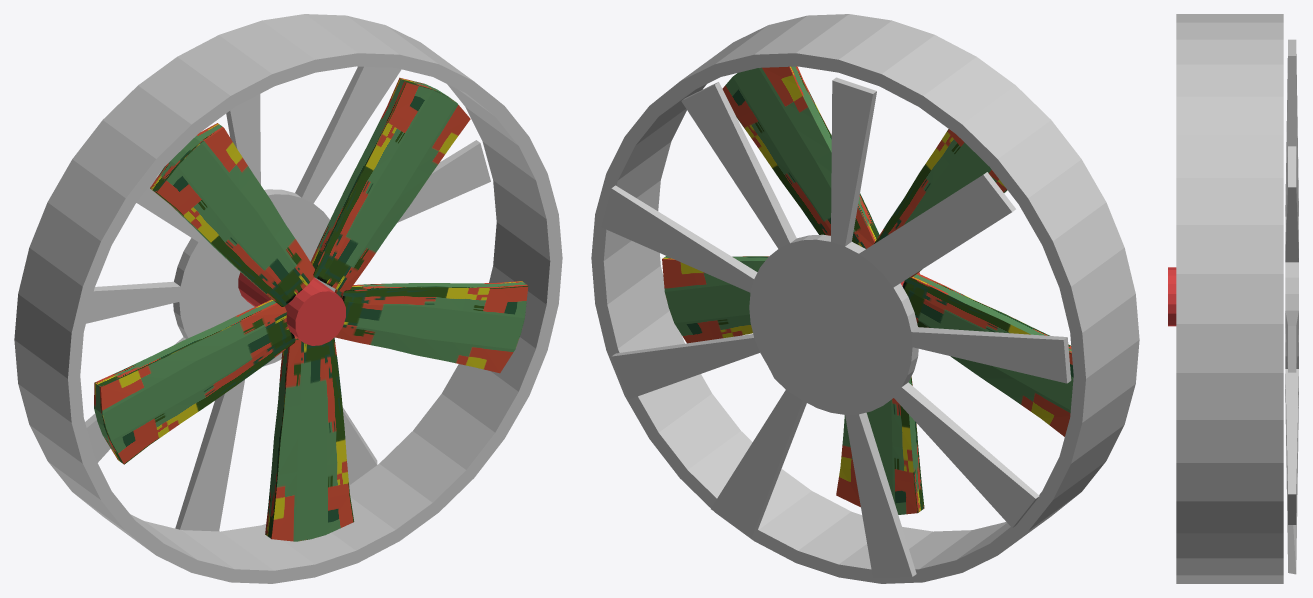
The model's file is Fan.DAE.
3 renders of one model, left to right at view 1: azimuth 30°, elevation 25°; view 2: azimuth 150°, elevation 25°; view 3: azimuth 270°, elevation 25°, orthographic.
Visible parts, largest first — view 1: Tube001, Box004, Cylinder002; view 2: Tube001, Cylinder002, Box004; view 3: Tube001, Cylinder002, Box004.
Part boxes in pixels (x1,y1,x2,y2): Tube001: (14,14,562,583); Box004: (94,77,528,541); Cylinder002: (85,66,490,531); Tube001: (591,14,1139,583); Cylinder002: (601,77,1071,578); Box004: (662,66,1073,514); Tube001: (1176,14,1283,583); Cylinder002: (1285,39,1298,574); Box004: (1168,267,1176,326).
Bounding box in the file's own units: 3.15 × 0.721 × 3.15.
